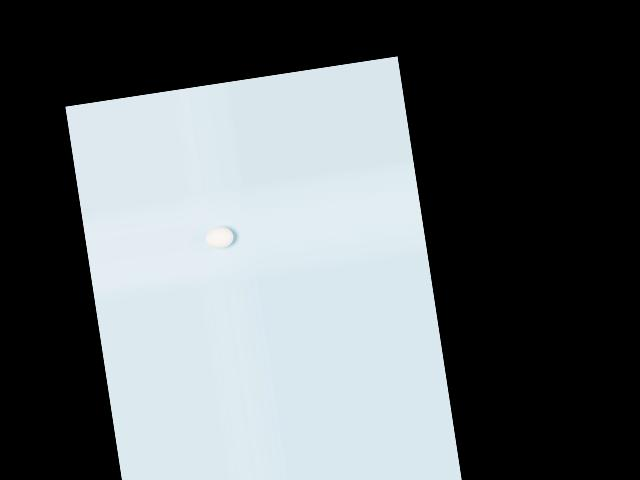egg: (203, 225, 235, 250)
